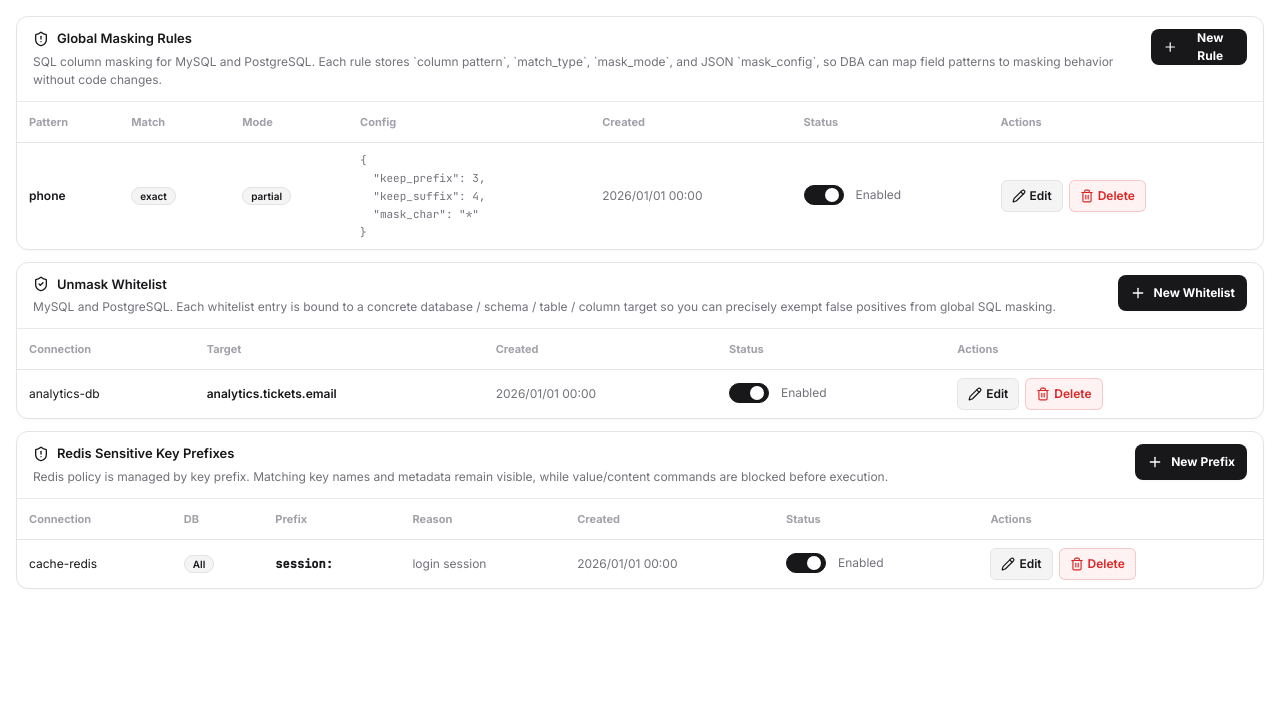
Test: MaskingRulesPage › toggles a Redis sensitive key prefix enabled state from the list
The image size is (1280, 720).
Click the switch named "session: enabled". click: (806, 562)
box: [786, 552, 826, 572]
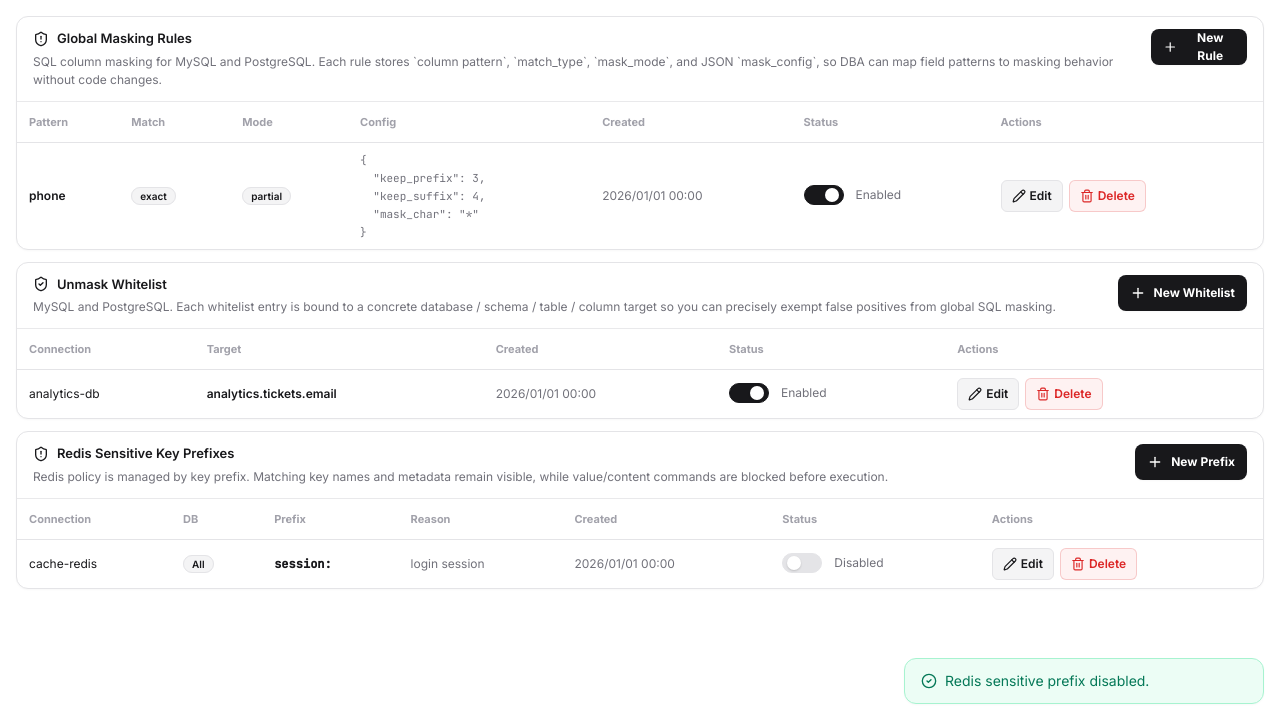
Check: the text "Disabled" is shown, box [834, 554, 884, 572]
